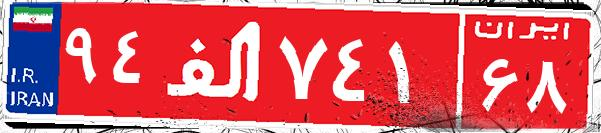1: (385, 28, 445, 110)
4: (330, 28, 385, 110), (110, 28, 158, 105)
6: (475, 38, 525, 113)
7: (273, 28, 330, 110)
8: (525, 38, 570, 115)
9: (57, 26, 110, 107)
الف: (158, 15, 273, 115)
